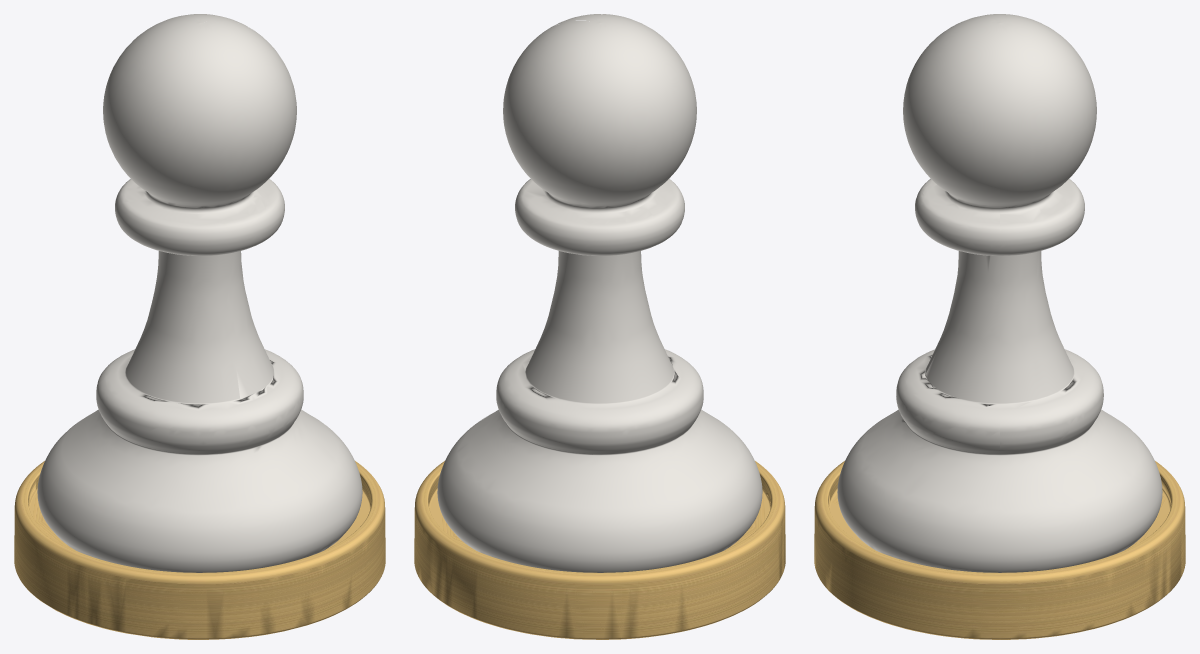
File: pawn-white-hd.glb
3 views of the same model, side by side, from view 1: azimuth 30°, elevation 25°; view 2: azimuth 150°, elevation 25°; view 3: azimuth 270°, elevation 25° (orthographic).
Visible parts, largest first — view 1: Aurum Ivoire – Pawn; view 2: Aurum Ivoire – Pawn; view 3: Aurum Ivoire – Pawn.
Boxes of the visible parts, x1,y1,x2,y2 form: Aurum Ivoire – Pawn: (14, 14, 385, 639); Aurum Ivoire – Pawn: (414, 14, 785, 639); Aurum Ivoire – Pawn: (814, 14, 1185, 639).
Size of the model in its own units: 0.5995 by 0.96 by 0.5995.
Materials: 2 (1 with a texture image).
